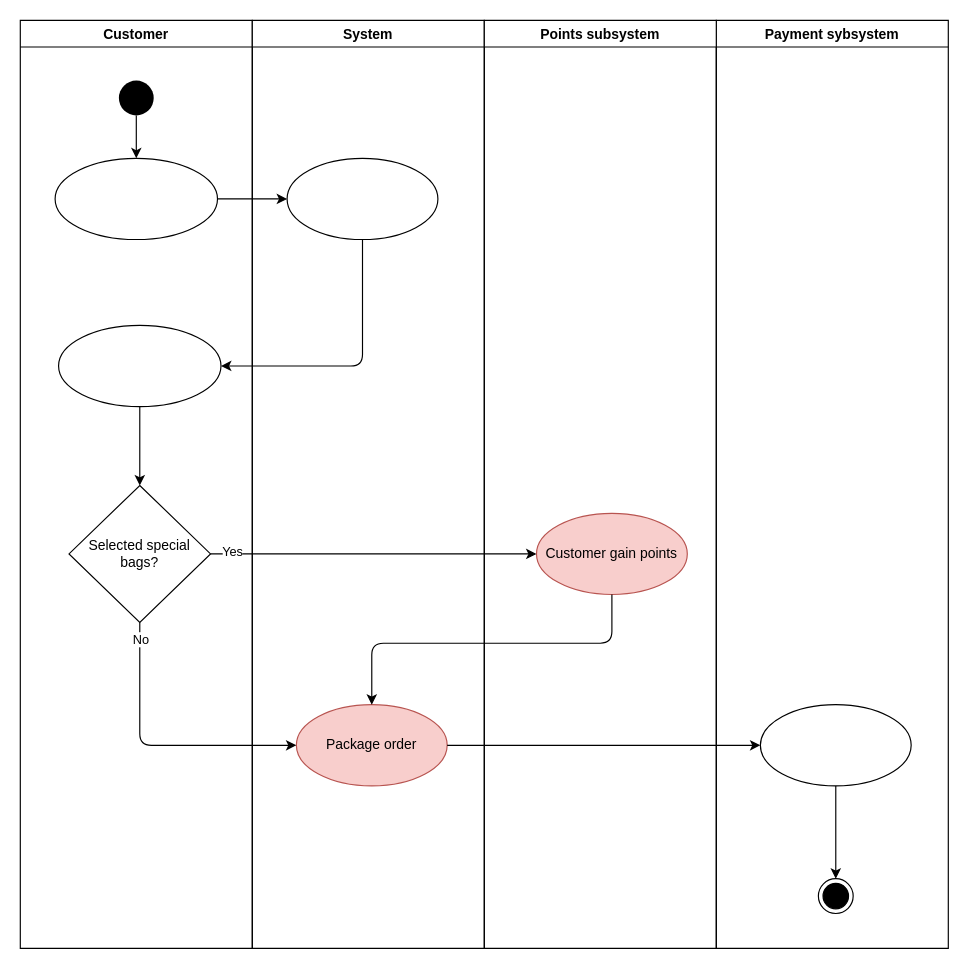
The diagram is 969 pixels wide and 969 high, and some of its shapes have lost their labels. Each missing label, with the centre of its shape:
Handle payment: point (835, 745)
Select packaging option: point (139, 365)
Select payment method: point (135, 198)
Validate customer's billing info: point (362, 198)
